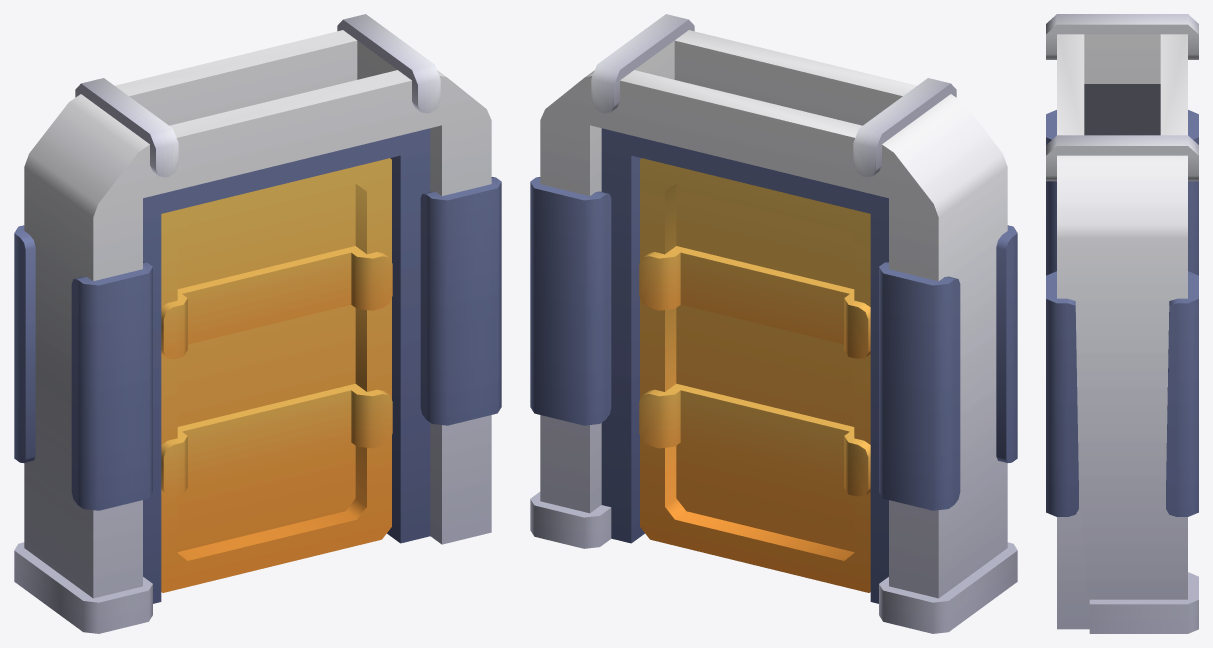
File: gate-door.glb
3 renders of one model, left to right at view 1: azimuth 30°, elevation 25°; view 2: azimuth 150°, elevation 25°; view 3: azimuth 270°, elevation 25°, orthographic. The views are drawn at different scales.
Visible parts, largest first — view 1: gate-door, door; view 2: gate-door, door; view 3: gate-door.
Boxes of the visible parts, bbox=[...] form: gate-door: bbox=[14, 14, 501, 633]; door: bbox=[161, 158, 392, 592]; gate-door: bbox=[530, 14, 1017, 633]; door: bbox=[639, 158, 870, 592]; gate-door: bbox=[1046, 14, 1198, 633].
Bounding box in the file's own units: 4.2 × 4.62 × 1.4.
Materials: 1 (1 with a texture image).
